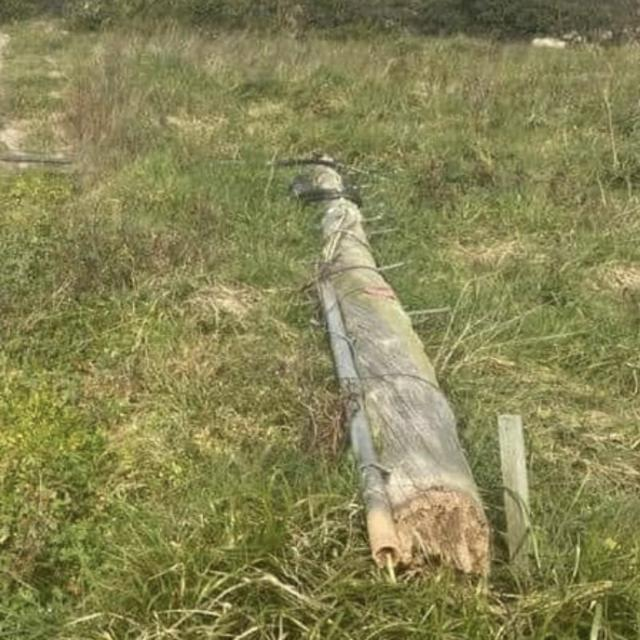Inclined Pole: (254, 126, 566, 594)
